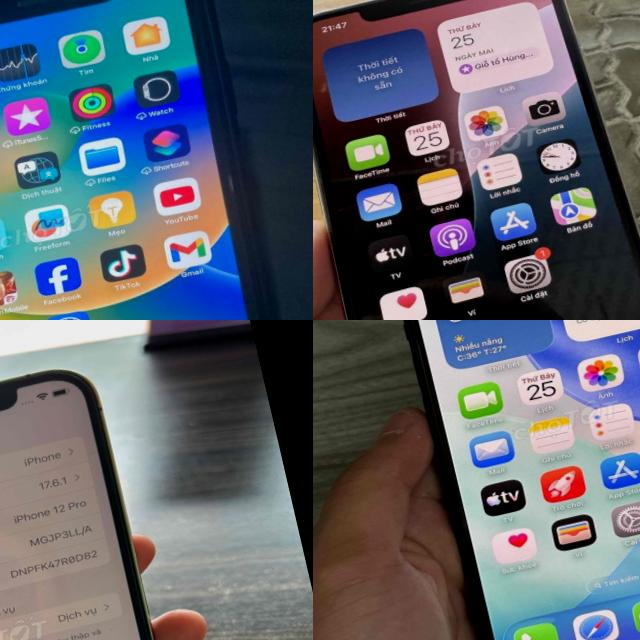gen_11: (313, 0, 640, 320), (0, 0, 270, 320)
gen_12_13: (375, 320, 640, 640), (0, 356, 207, 640)
